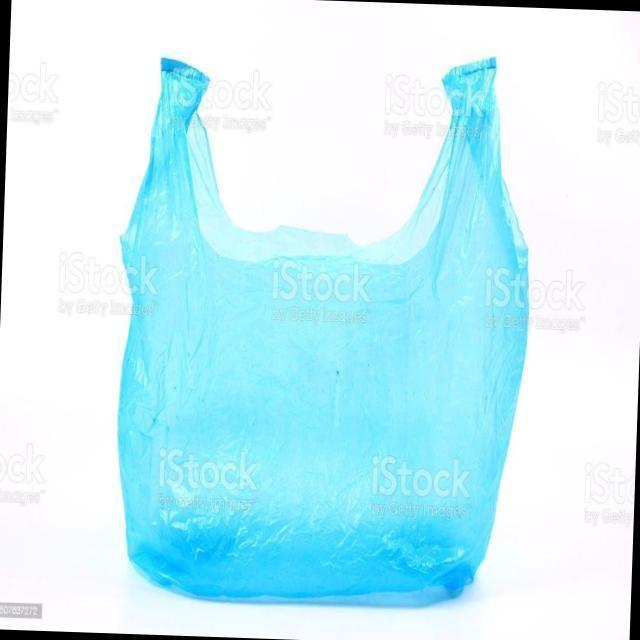KantongPlastik: (114, 52, 532, 607)
